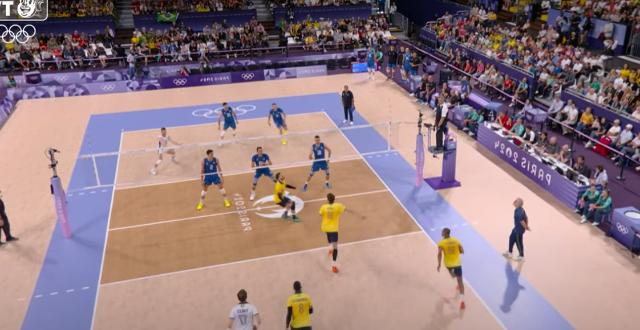Levantador: (274, 171, 296, 223)
Libero: (232, 291, 262, 330), (156, 128, 172, 168)
bola: (305, 38, 313, 44)
